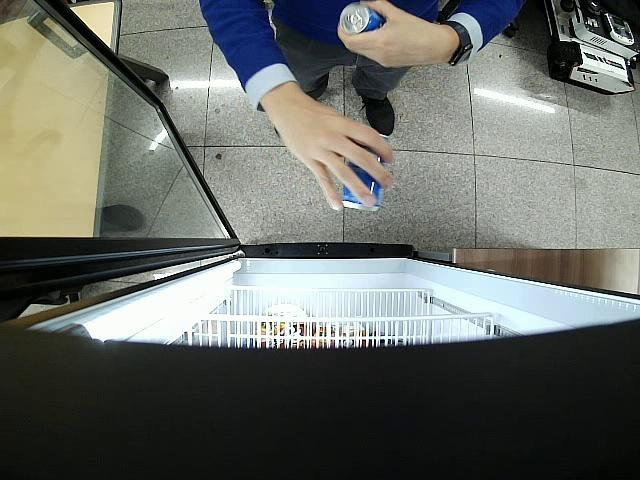15_letsbe: (344, 136, 389, 212), (339, 4, 385, 35)
